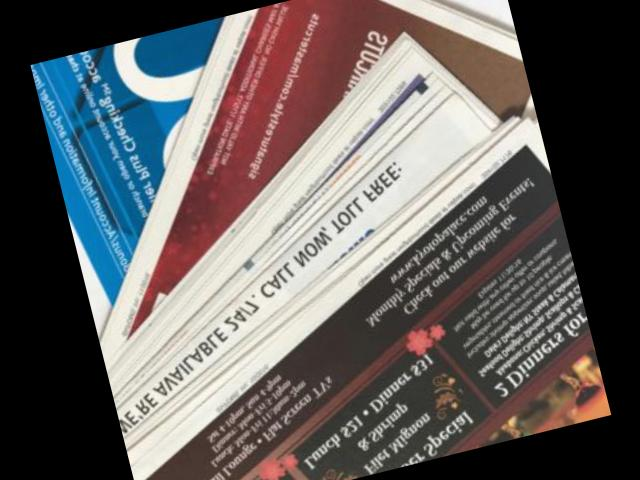cardboard paper: (104, 38, 611, 480), (99, 0, 536, 370)
